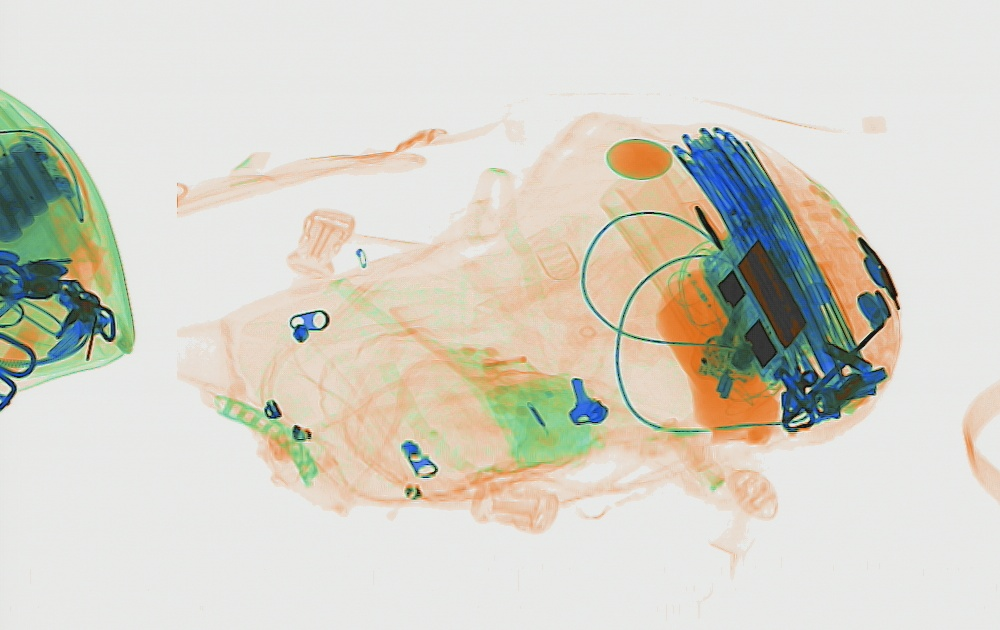powerbank: (1, 133, 75, 245)
